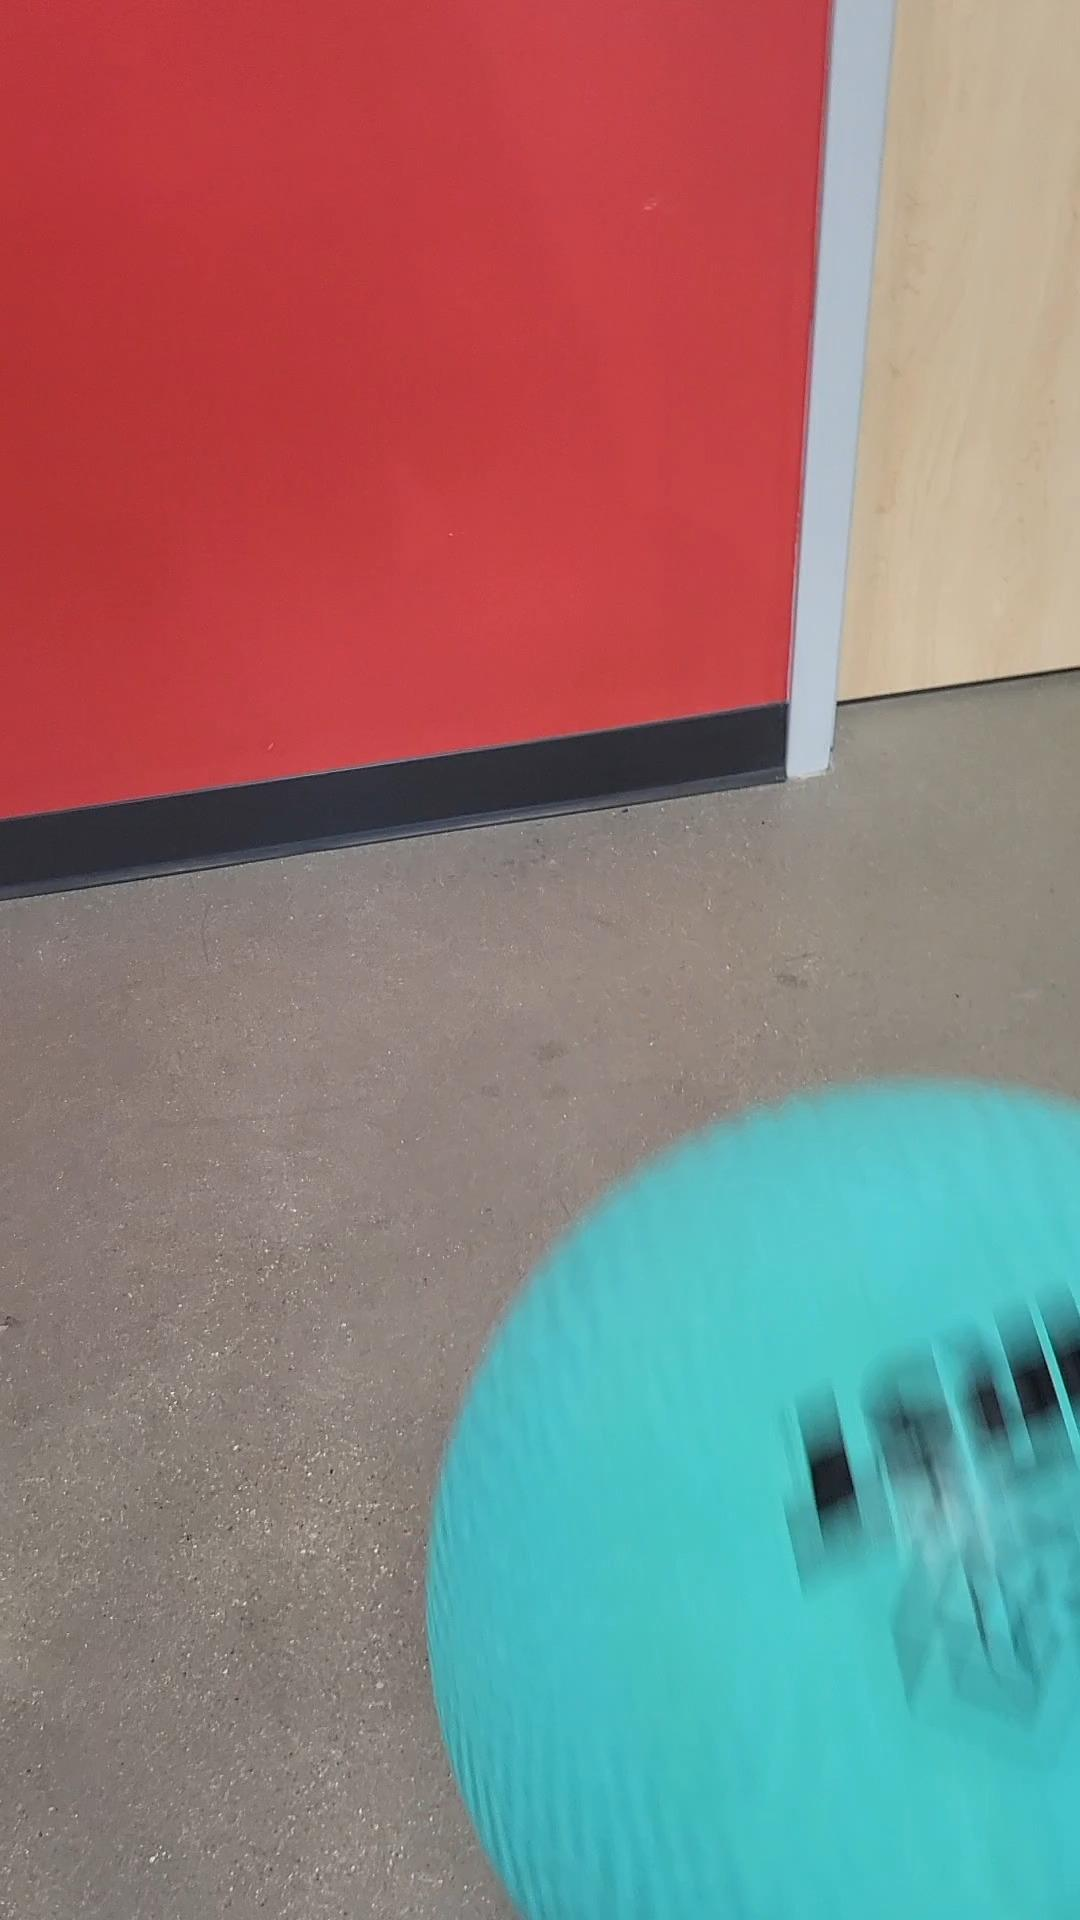algae: (435, 1076, 1080, 1920)
